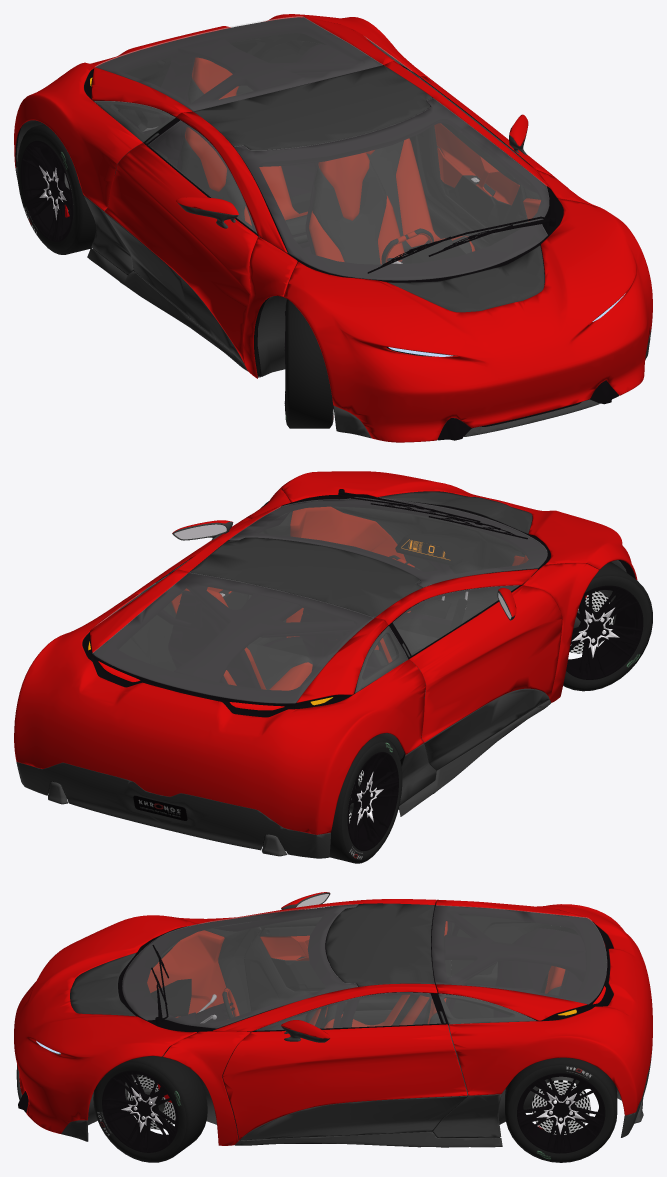
File: sample-car.glb
3 views of the same model, one above another, from view 1: azimuth 30°, elevation 25°; view 2: azimuth 150°, elevation 25°; view 3: azimuth 270°, elevation 25° (orthographic). The views are drawn at different scales.
Visible parts, largest first — view 1: BodyRearPanelsColor1, BodyWindshield, BodyWindshieldGasket, BodyRoofPanel, InteriorDashSides, InteriorDashMid, InteriorSeatsColor2, object 21, WheelFrontLRim, BodyUnderside, InteriorMid, InteriorSteeringDash; view 2: BodyRearPanelsColor1, BodyWindshield, BodyRoofPanel, BodyWindshieldGasket, InteriorDashMid, WheelFrontLRim, object 21, InteriorDashSides, InteriorSeatsColor2, InteriorFloormats, InteriorSteeringDash, BodyUnderside (+3 smaller); view 3: BodyRearPanelsColor1, BodyWindshield, BodyRoofPanel, BodyWindshieldGasket, object 21, WheelFrontLRim, InteriorDashMid, InteriorDashSides, InteriorMid, WheelFrontLBrakeDisc, BodyUnderside, InteriorSeatsColor2 (+1 smaller).
Boxes of the visible parts, left/top/right/bottom form: BodyRearPanelsColor1: left=14, top=14, right=652, bottom=442; BodyWindshield: left=94, top=16, right=548, bottom=280; BodyWindshieldGasket: left=16, top=17, right=618, bottom=440; BodyRoofPanel: left=15, top=65, right=651, bottom=438; InteriorDashSides: left=185, top=57, right=540, bottom=349; InteriorDashMid: left=15, top=33, right=526, bottom=281; InteriorSeatsColor2: left=180, top=78, right=472, bottom=264; object 21: left=17, top=124, right=333, bottom=428; WheelFrontLRim: left=20, top=140, right=285, bottom=414; BodyUnderside: left=16, top=78, right=526, bottom=425; InteriorMid: left=93, top=173, right=557, bottom=376; InteriorSteeringDash: left=404, top=239, right=465, bottom=263; BodyRearPanelsColor1: left=14, top=471, right=637, bottom=834; BodyWindshield: left=92, top=497, right=547, bottom=703; BodyRoofPanel: left=16, top=491, right=550, bottom=858; BodyWindshieldGasket: left=82, top=489, right=635, bottom=753; InteriorDashMid: left=48, top=502, right=528, bottom=850; WheelFrontLRim: left=347, top=585, right=643, bottom=850; object 21: left=260, top=501, right=652, bottom=863; InteriorDashSides: left=171, top=506, right=528, bottom=690; InteriorSeatsColor2: left=246, top=628, right=437, bottom=689; InteriorFloormats: left=269, top=598, right=467, bottom=659; InteriorSteeringDash: left=395, top=533, right=462, bottom=566; BodyUnderside: left=48, top=560, right=626, bottom=856; BodyRearPanelsColor1: left=14, top=892, right=652, bottom=1145; BodyWindshield: left=122, top=904, right=606, bottom=1030; BodyRoofPanel: left=16, top=892, right=652, bottom=1147; BodyWindshieldGasket: left=18, top=901, right=613, bottom=1143; object 21: left=93, top=1054, right=617, bottom=1162; WheelFrontLRim: left=102, top=1070, right=605, bottom=1153; InteriorDashMid: left=118, top=908, right=613, bottom=1030; InteriorDashSides: left=147, top=921, right=565, bottom=1028; InteriorMid: left=205, top=921, right=499, bottom=1143; WheelFrontLBrakeDisc: left=127, top=1075, right=590, bottom=1134; BodyUnderside: left=39, top=927, right=643, bottom=1125; InteriorSeatsColor2: left=304, top=973, right=560, bottom=1028.
Bounding box in the file's own units: 2.54 × 1.15 × 4.36.
23 materials, 6 textured.
